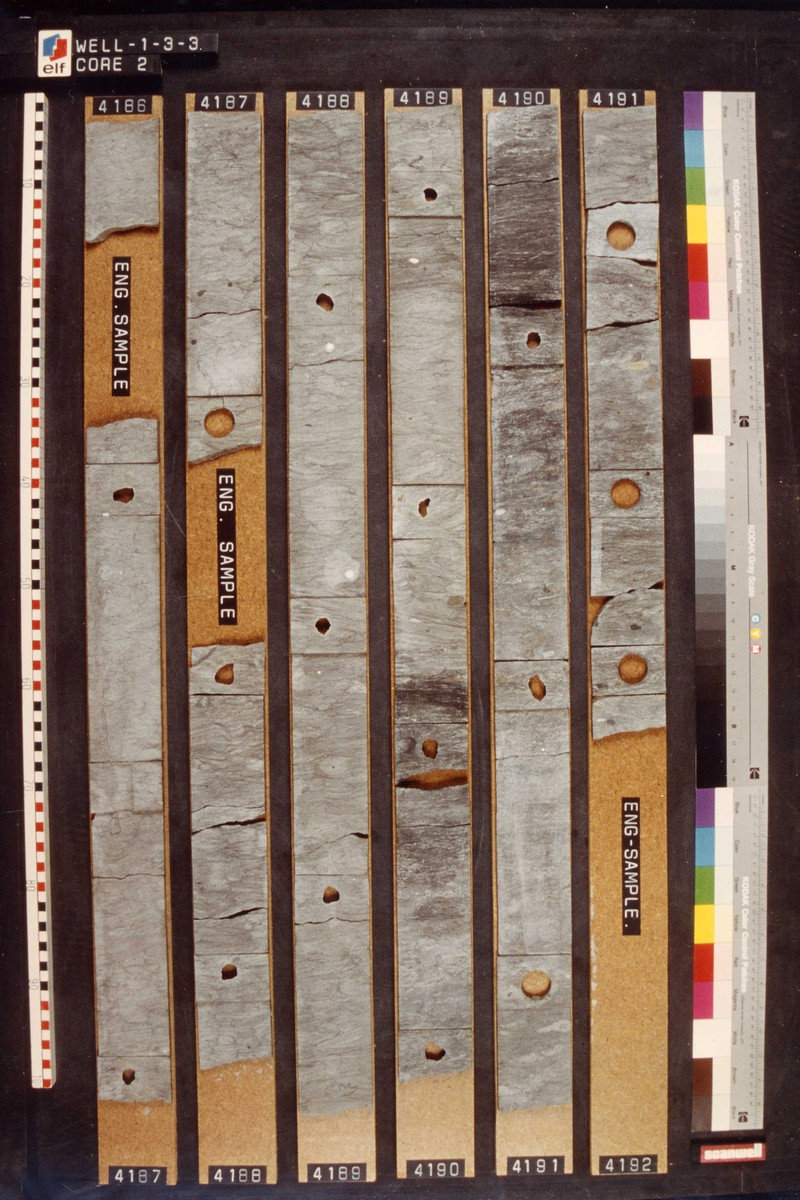core: (284, 109, 377, 1116), (484, 106, 573, 1109), (386, 109, 478, 1079), (182, 110, 271, 1067), (79, 419, 178, 1105), (583, 105, 670, 740), (81, 116, 161, 251)
